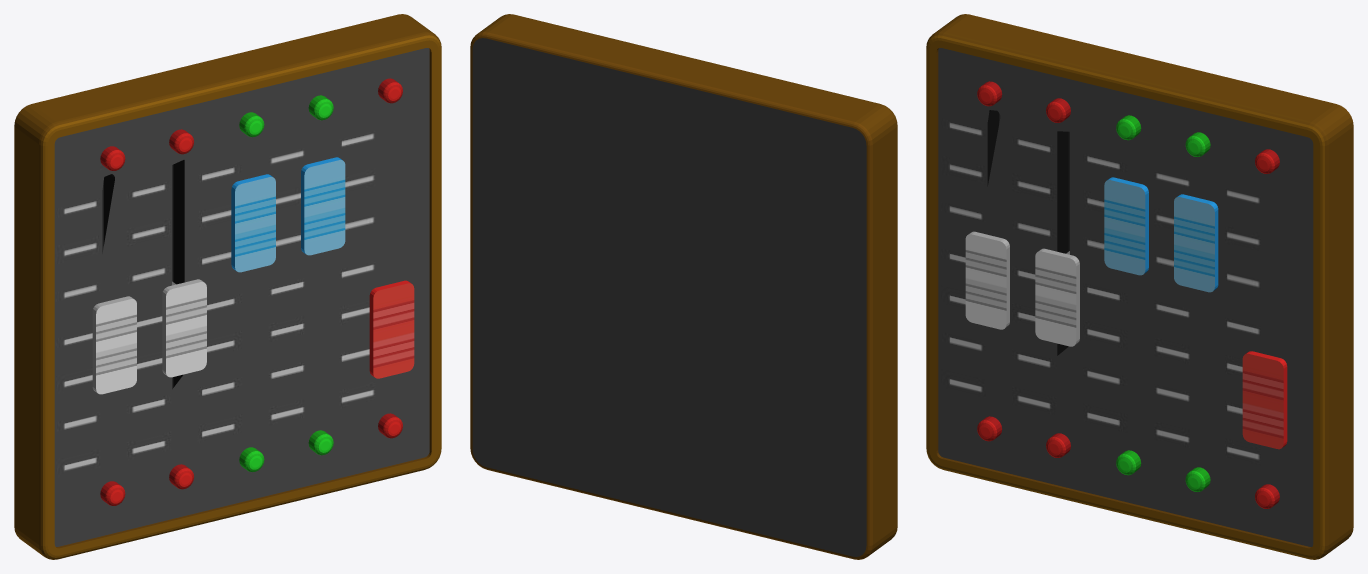
Rendered from Equalizer.fbx.
The picture shows the model from 3 angles, left to right: view 1: azimuth 30°, elevation 25°; view 2: azimuth 150°, elevation 25°; view 3: azimuth 330°, elevation 25°; orthographic projection.
Parts seen in each view (by area): view 1: Cube.002, Cylinder.005, Cube.007, Cube.003, Cube.004, Cube.005, Cube.006; view 2: Cube.002; view 3: Cube.002, Cylinder.005, Cube.007, Cube.003, Cube.005, Cube.004, Cube.006.
Boxes of the visible parts, box(x1,y1,x2,y2) form: Cube.002: box(14, 14, 441, 559); Cylinder.005: box(100, 78, 402, 505); Cube.007: box(369, 280, 414, 378); Cube.003: box(162, 279, 206, 377); Cube.004: box(92, 296, 136, 394); Cube.005: box(231, 174, 275, 272); Cube.006: box(301, 157, 345, 255); Cube.002: box(470, 14, 897, 559); Cube.002: box(926, 14, 1353, 559); Cylinder.005: box(977, 81, 1279, 508); Cube.007: box(1242, 351, 1287, 449); Cube.003: box(1035, 248, 1079, 346); Cube.005: box(1104, 177, 1148, 275); Cube.004: box(965, 231, 1009, 329); Cube.006: box(1174, 194, 1218, 292).
Bounding box in the file's own units: 1754 × 1823 × 274.
Materials: 1 (1 with a texture image).
